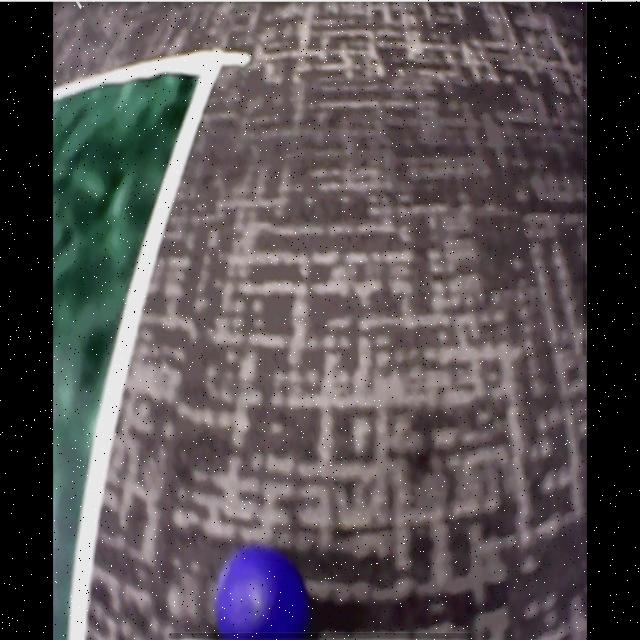ball: (215, 546, 311, 640)
